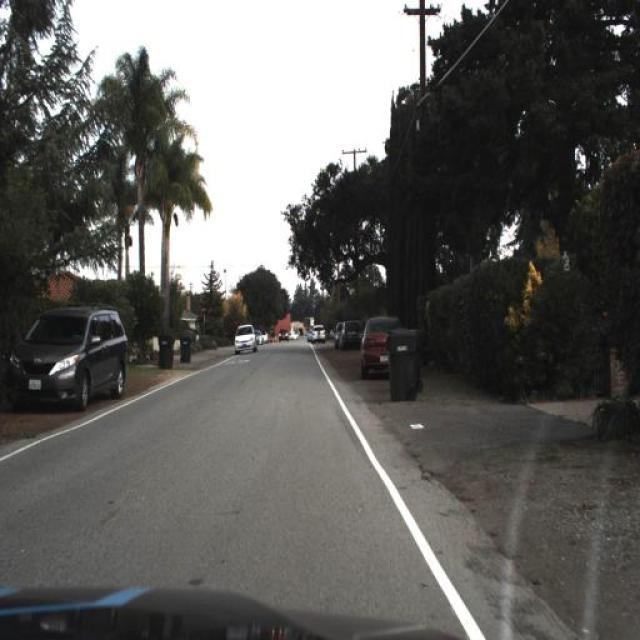car: (7, 298, 128, 410), (356, 314, 406, 378), (362, 316, 403, 380), (233, 321, 258, 352), (234, 324, 257, 357), (310, 324, 324, 348)
